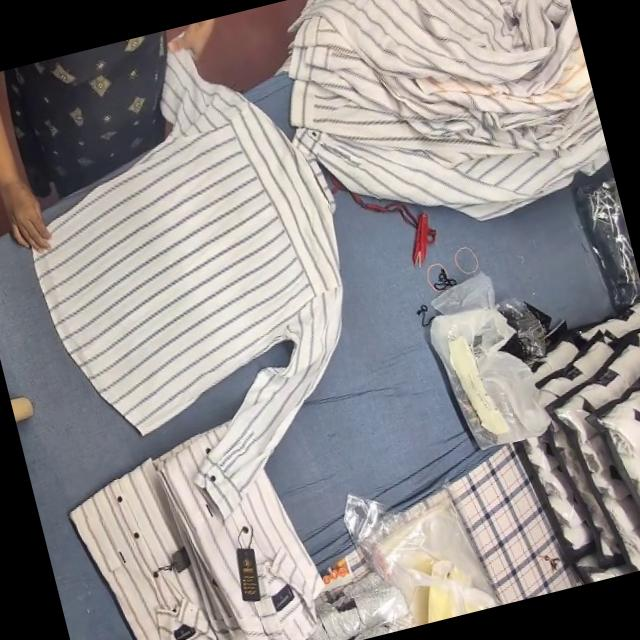new-garment: (34, 50, 341, 509)
